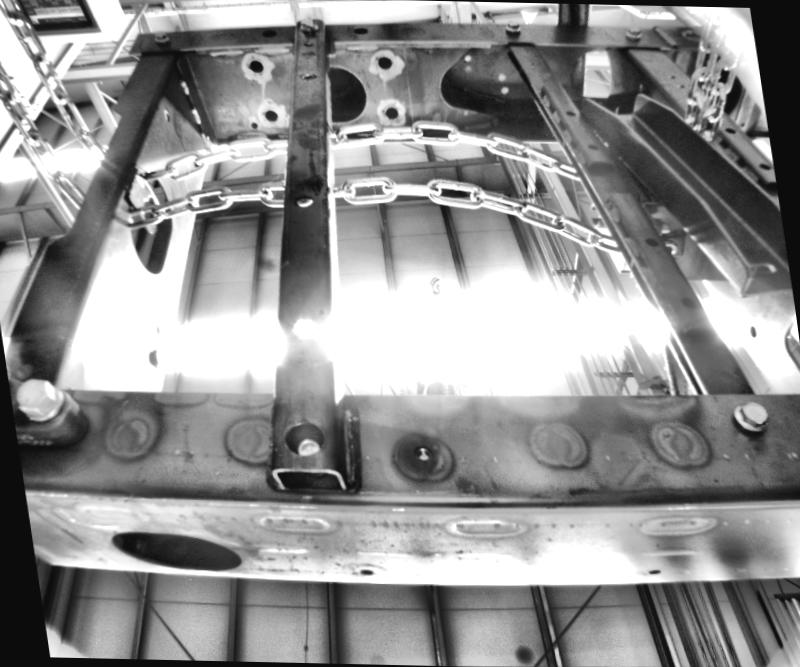bolt: (13, 370, 70, 433), (728, 402, 776, 434), (143, 345, 166, 370), (500, 18, 526, 32), (622, 25, 642, 42), (150, 29, 170, 44)
bracket: (117, 152, 166, 234)
hole: (88, 520, 252, 573), (282, 419, 324, 460), (291, 317, 319, 340), (408, 442, 434, 464), (292, 190, 314, 205), (378, 100, 398, 115), (262, 108, 280, 123), (246, 60, 265, 74), (745, 325, 761, 339), (298, 70, 318, 80), (374, 50, 390, 62), (258, 27, 278, 36), (646, 565, 660, 577), (358, 566, 374, 576), (351, 27, 368, 34), (300, 33, 312, 41), (152, 324, 160, 336), (250, 120, 258, 128)
welding: (176, 76, 190, 94), (190, 107, 202, 125), (199, 131, 210, 149)
